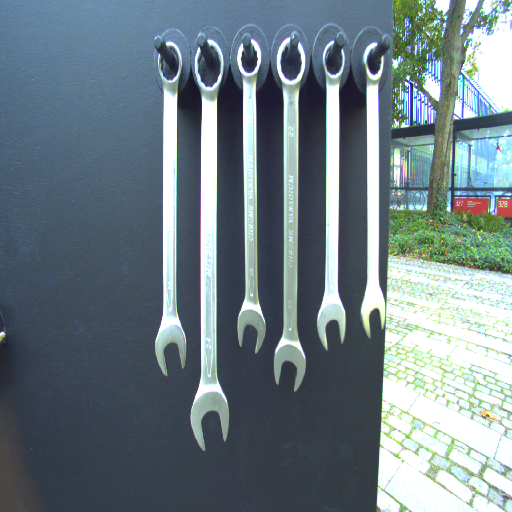bottom: (189, 384, 231, 452), (153, 317, 190, 378), (273, 336, 308, 394), (315, 294, 349, 351), (356, 287, 389, 339), (235, 300, 265, 355)
top: (273, 33, 308, 88), (193, 38, 225, 89), (155, 42, 185, 88), (234, 35, 265, 78), (358, 38, 389, 81), (320, 36, 347, 82)
